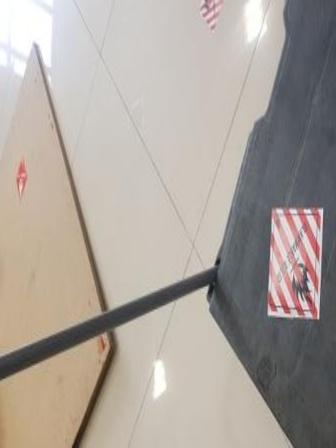flammable: (14, 155, 28, 201)
flammable-solid: (268, 205, 325, 317), (197, 1, 225, 36)
